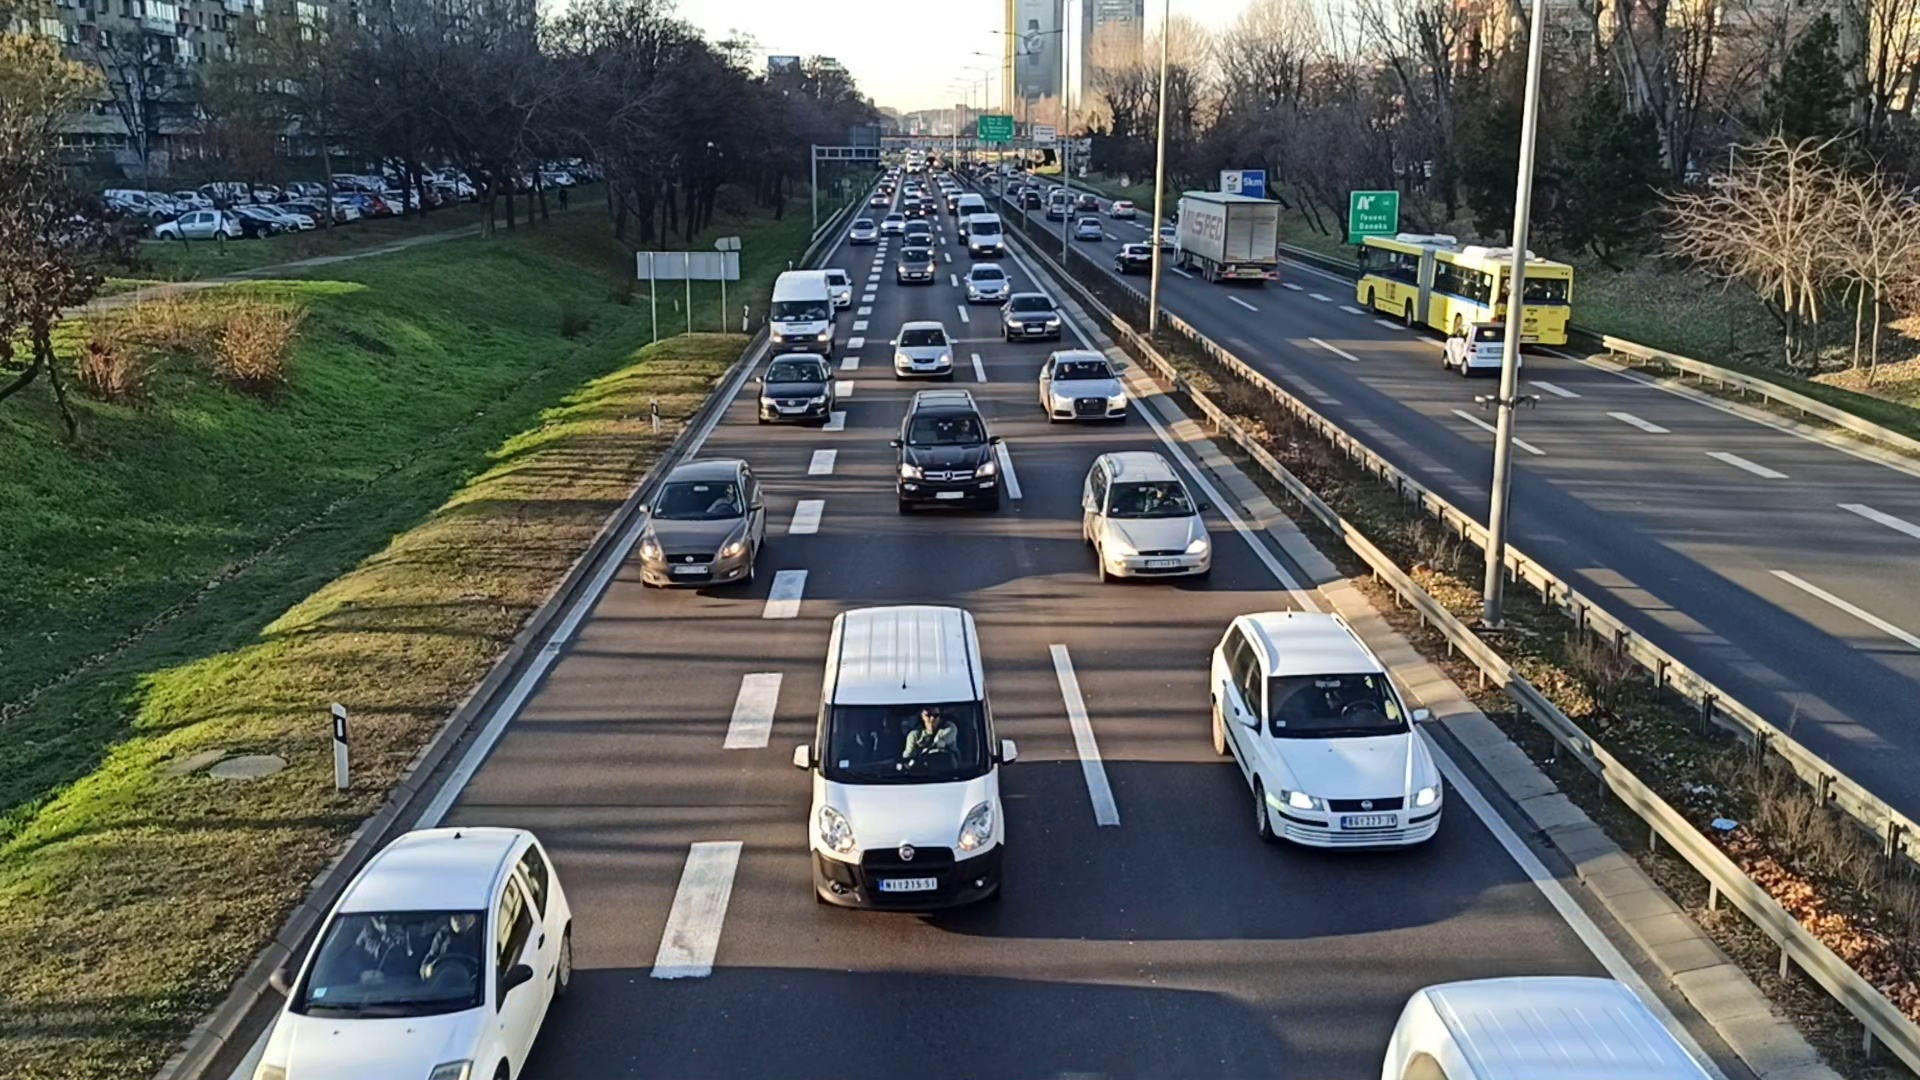bus: (1356, 228, 1571, 349)
car: (243, 820, 574, 1080), (1212, 608, 1443, 858), (1083, 447, 1211, 585), (644, 454, 765, 587), (895, 390, 1000, 506), (1039, 345, 1127, 423), (760, 353, 833, 422), (1447, 324, 1520, 375), (893, 322, 949, 376), (1002, 295, 1058, 339), (965, 264, 1010, 305), (1116, 241, 1158, 274), (820, 266, 855, 306), (897, 248, 935, 281), (851, 219, 876, 244), (881, 214, 903, 233)
truck: (1175, 189, 1279, 285)
van: (807, 604, 1005, 916), (769, 269, 833, 348)
